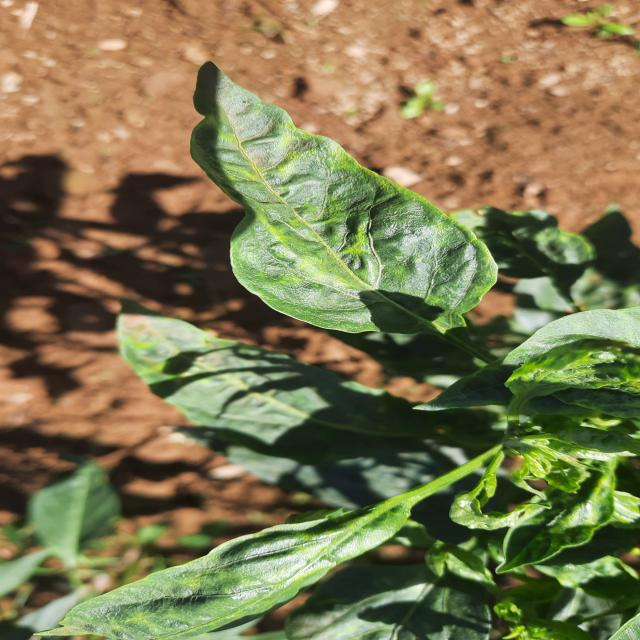thrips: (168, 59, 506, 346), (6, 488, 410, 640)
